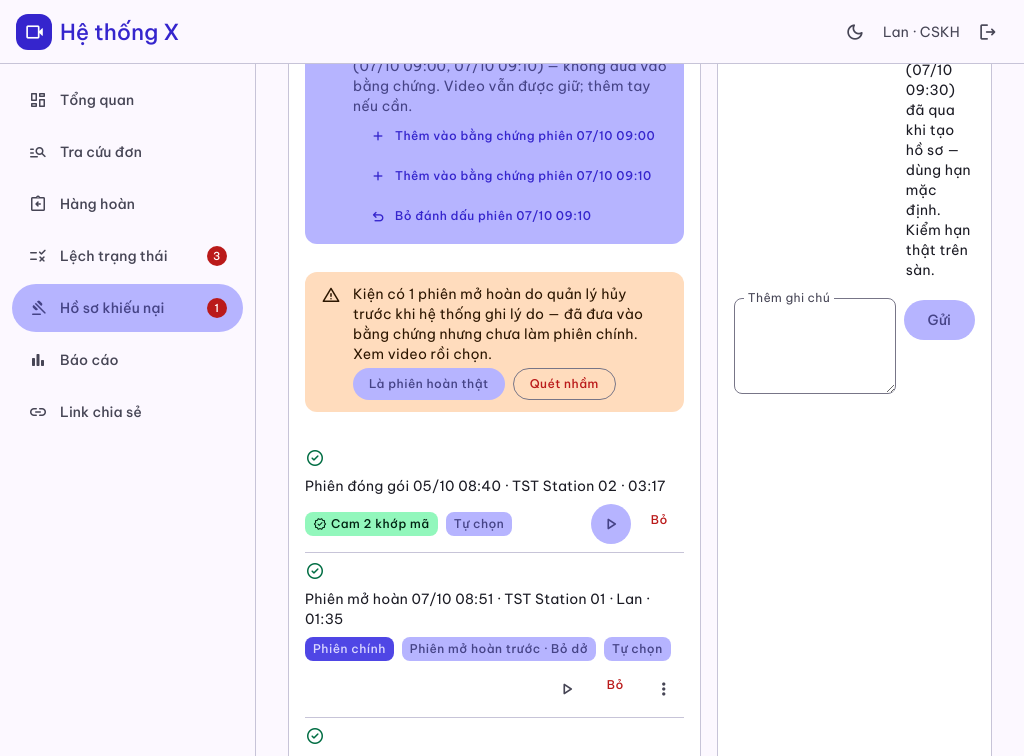
TC-08.52: Alert 'Cần soát' → Là phiên hoàn thật → ghi chú → phiên thành phiên chính (server)
(page scrolled)
Click the button "Là phiên hoàn thật".
click(429, 384)  # box [353,368,505,400]
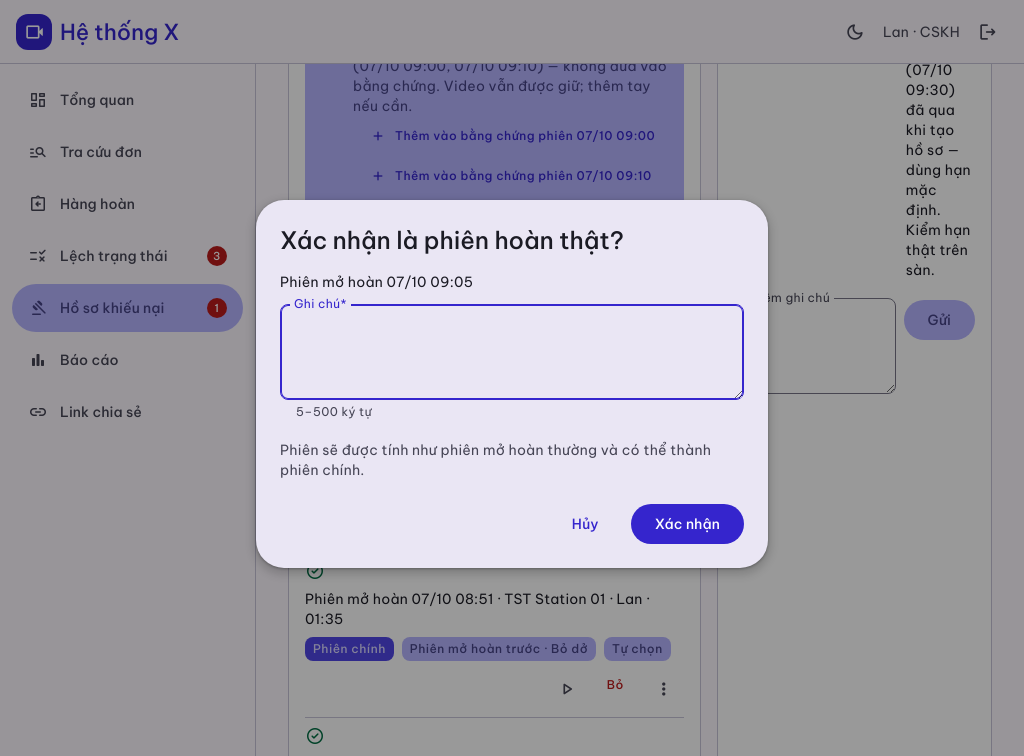
Result: the text "Phiên sẽ được tính như phiên mở hoàn thường và có thể thành phiên chính." is shown at [280,440,744,480]
Type "Đã xem video, đúng kiện" into the text box labelled "Ghi chú*".
click(512, 352); type("Đã xem video, đúng kiện")  # box [280,304,744,400]
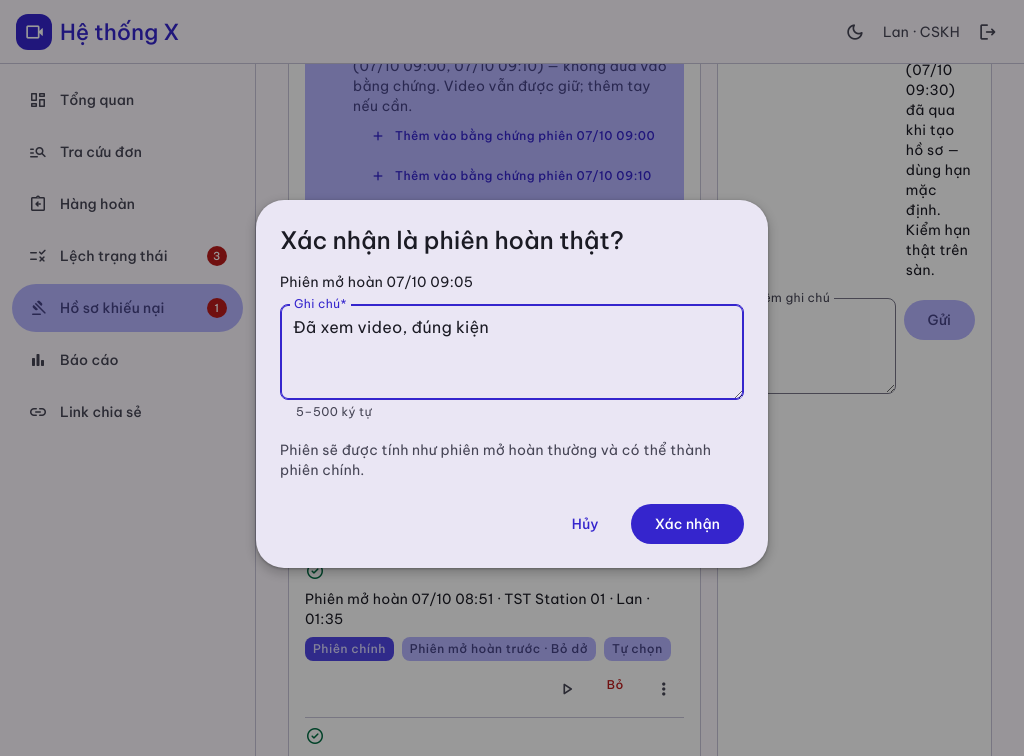
Click the button "Xác nhận".
click(687, 524)  # box [631,504,744,544]
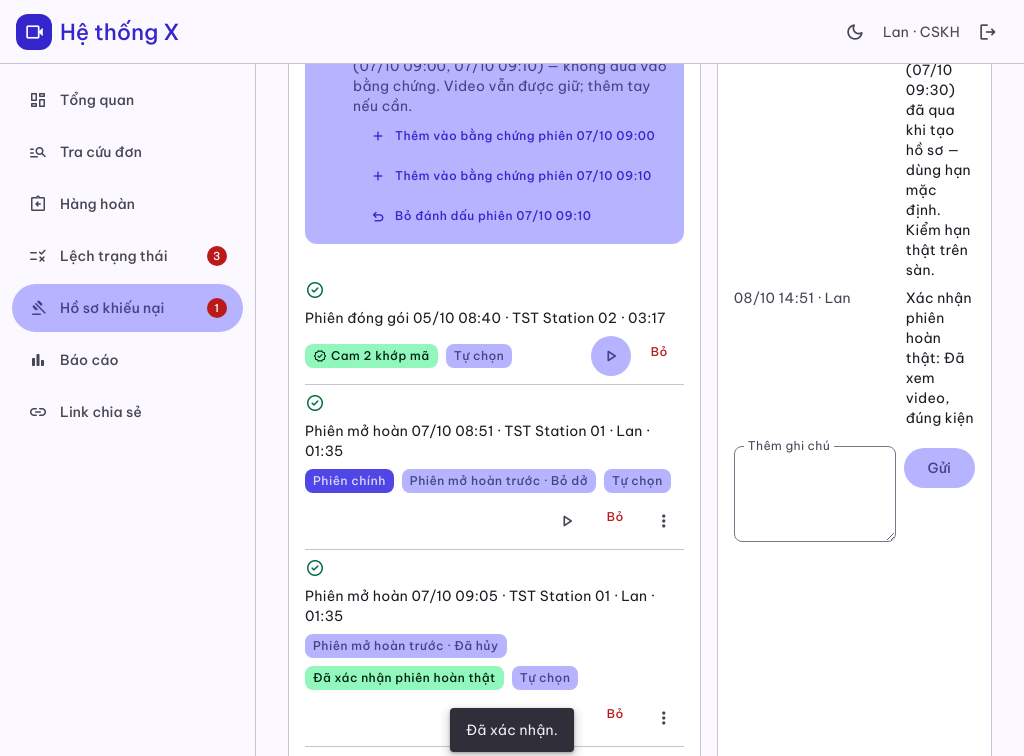
Result: the text "Đã xác nhận." is shown at [450,708,574,752]
Result: the text "Kiện có 1 phiên mở hoàn do quản lý hủy" is gone
